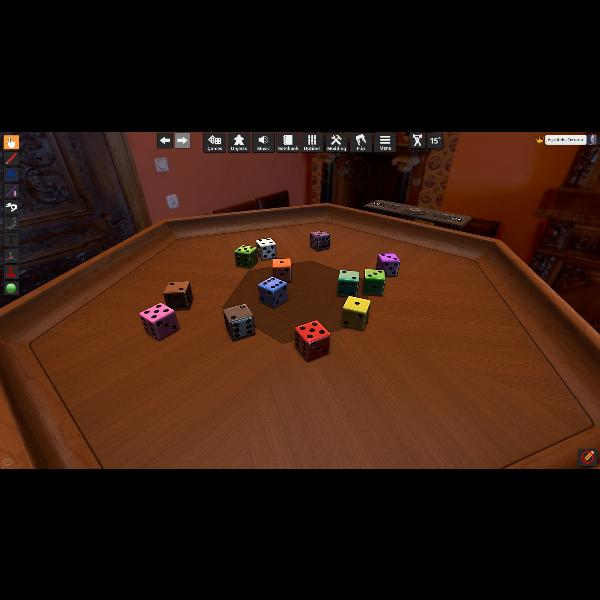d6: (140, 302, 180, 340), (295, 321, 325, 361), (224, 303, 256, 340), (258, 276, 288, 308), (342, 296, 370, 330), (163, 280, 193, 309), (361, 268, 385, 296), (337, 269, 359, 297), (234, 244, 258, 268), (376, 252, 398, 276), (272, 258, 291, 282), (256, 238, 276, 260), (310, 230, 330, 251)
